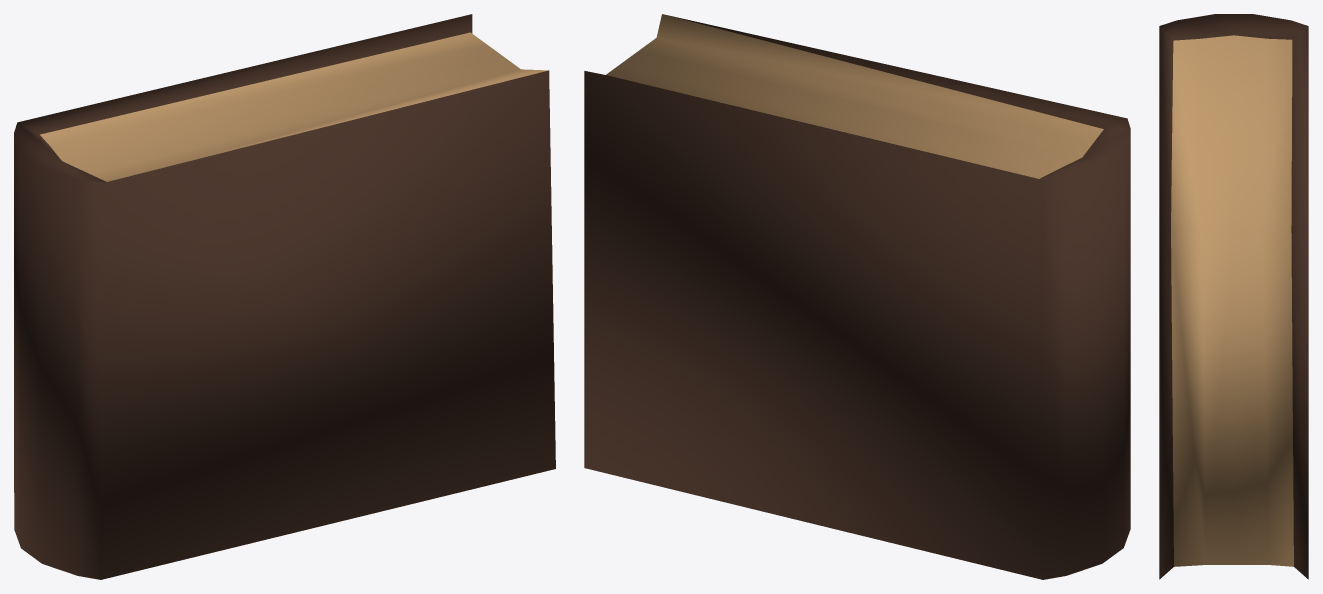
Rendered from book001.fbx.
3 renders of one model, left to right at view 1: azimuth 30°, elevation 25°; view 2: azimuth 150°, elevation 25°; view 3: azimuth 270°, elevation 25°, orthographic. The views are drawn at different scales.
Visible parts, largest first — view 1: Book Variation 003; view 2: Book Variation 003; view 3: Book Variation 003.
Part boxes in pixels (left/top/right/bottom): Book Variation 003: left=14, top=14, right=555, bottom=579; Book Variation 003: left=584, top=14, right=1130, bottom=579; Book Variation 003: left=1159, top=14, right=1308, bottom=579.
Bounding box in the file's own units: 0.2895 × 0.2272 × 0.0868.
